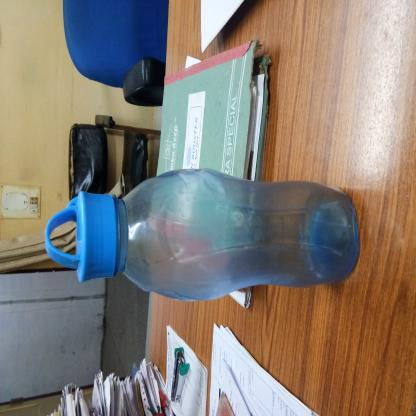bottle: (84, 61, 189, 416)
